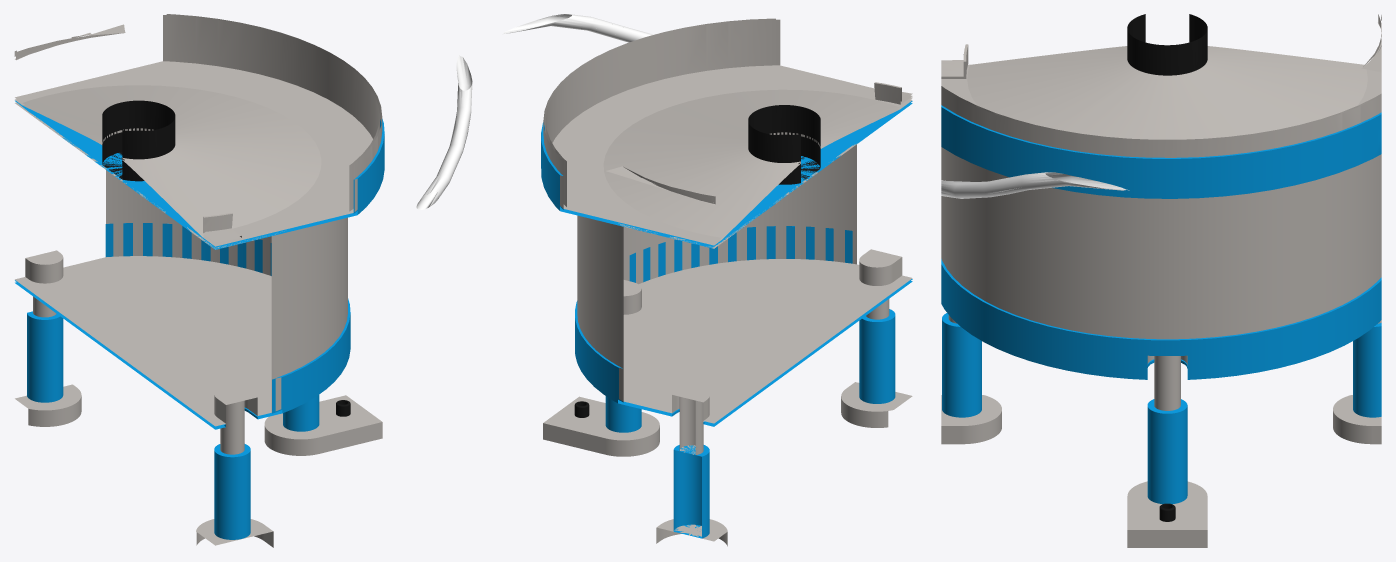
The model's file is PinInsertionStation_Cube06.glb.
3 renders of one model, left to right at view 1: azimuth 30°, elevation 25°; view 2: azimuth 150°, elevation 25°; view 3: azimuth 270°, elevation 25°, orthographic. The views are drawn at different scales.
Parts seen in each view (by area): view 1: color-25.005; view 2: color-25.005; view 3: color-25.005.
Part boxes in pixels (x1,y1,x2,y2): color-25.005: (14, 14, 472, 547); color-25.005: (502, 14, 912, 546); color-25.005: (941, 14, 1381, 547).
Bounding box in the file's own units: 0.3133 × 0.33 × 0.33.
